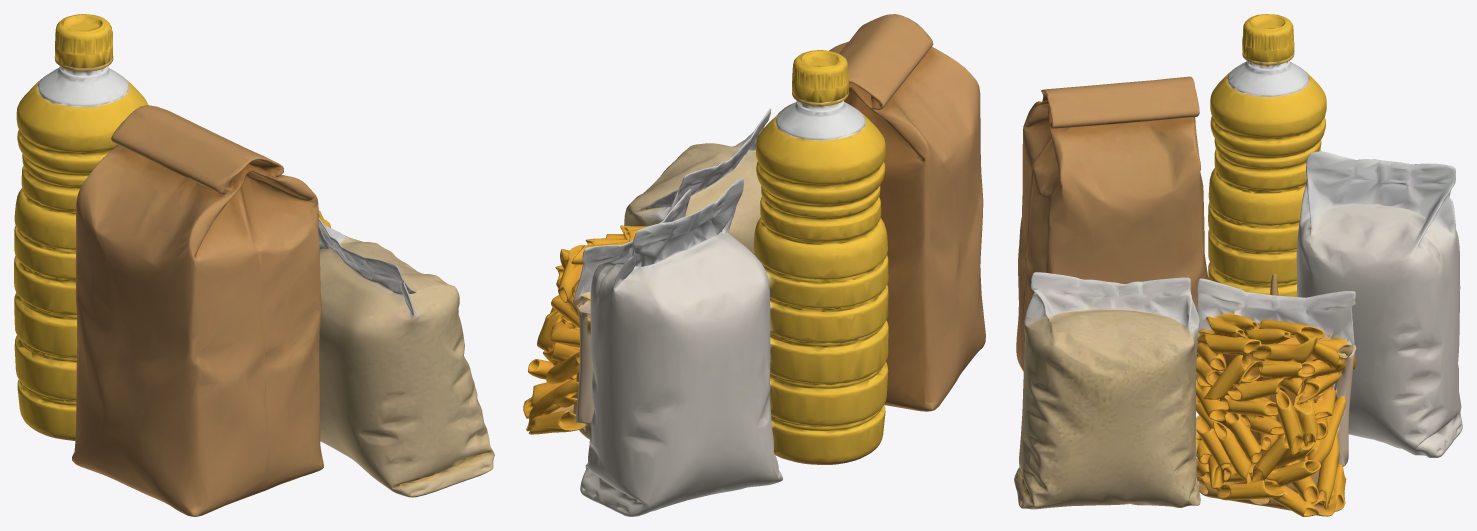
The model's file is abarrotes.glb.
The picture shows the model from 3 angles, left to right: view 1: azimuth 30°, elevation 25°; view 2: azimuth 150°, elevation 25°; view 3: azimuth 270°, elevation 25°; orthographic projection. The views are drawn at different scales.
Parts seen in each view (by area): view 1: tripo_node_2cebe7df-7f98-447b-acc0-b0caac31f45b; view 2: tripo_node_2cebe7df-7f98-447b-acc0-b0caac31f45b; view 3: tripo_node_2cebe7df-7f98-447b-acc0-b0caac31f45b.
Part boxes in pixels (x1=…): tripo_node_2cebe7df-7f98-447b-acc0-b0caac31f45b: x1=14, y1=14, x2=494, y2=516; tripo_node_2cebe7df-7f98-447b-acc0-b0caac31f45b: x1=523, y1=14, x2=985, y2=516; tripo_node_2cebe7df-7f98-447b-acc0-b0caac31f45b: x1=1014, y1=14, x2=1462, y2=516.
Size of the model in its own units: 0.8063 by 0.9303 by 1.
Materials: 1 (1 with a texture image).
